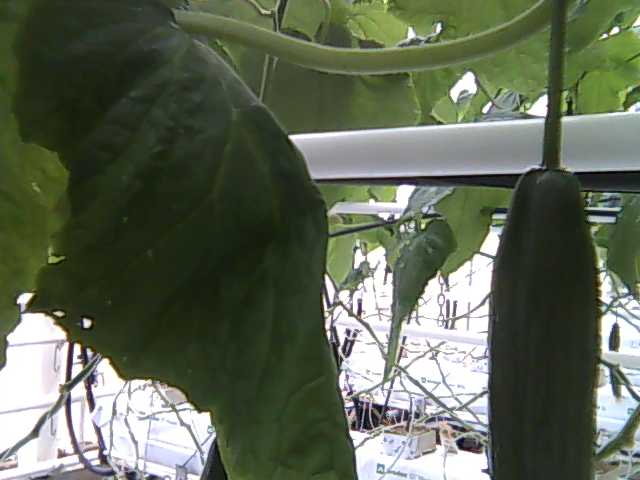concombre: (484, 144, 606, 480)
